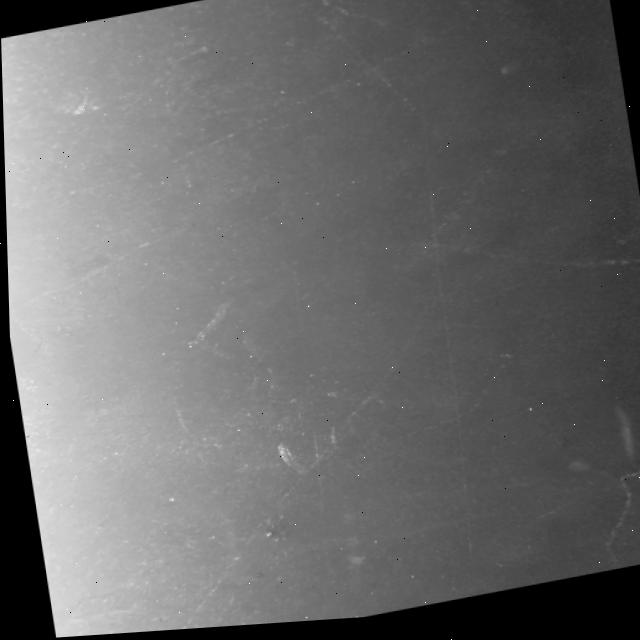beta: (85, 331, 462, 636), (9, 0, 541, 208), (335, 140, 545, 331), (384, 201, 640, 314), (308, 357, 522, 472), (312, 0, 454, 170), (5, 225, 191, 314), (583, 473, 640, 580), (309, 0, 404, 43)
